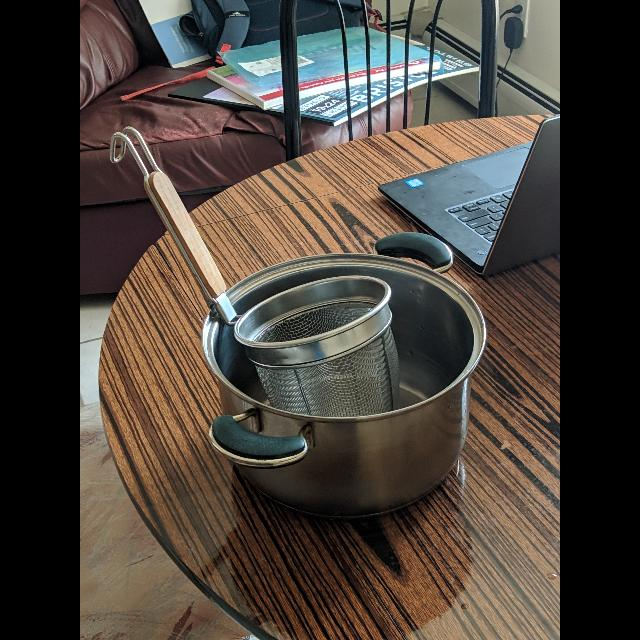Handle: (98, 122, 250, 326)
Strainer: (236, 272, 390, 349)
